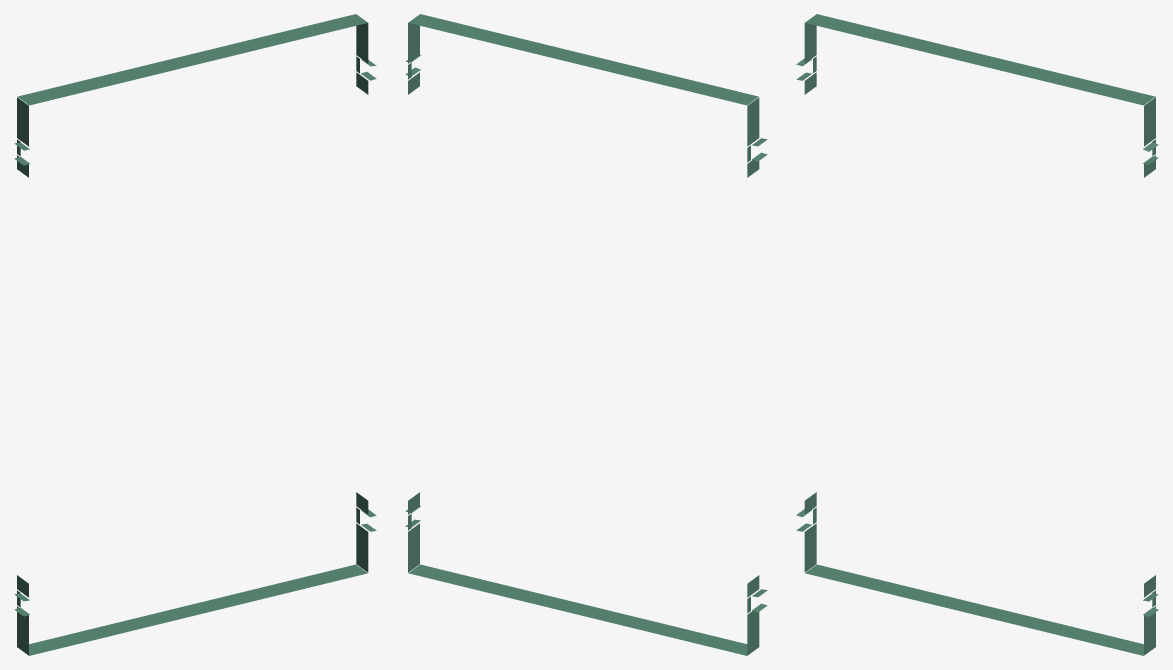
Rendered from SM_000214_merge_fence01.fbx.
3 views of the same model, side by side, from view 1: azimuth 30°, elevation 25°; view 2: azimuth 150°, elevation 25°; view 3: azimuth 330°, elevation 25° (orthographic).
Parts seen in each view (by area): view 1: SM_000214.001; view 2: SM_000214.001; view 3: SM_000214.001.
Part boxes in pixels (left/top/right/bottom): SM_000214.001: left=14, top=14, right=376, bottom=655; SM_000214.001: left=405, top=14, right=767, bottom=655; SM_000214.001: left=796, top=14, right=1158, bottom=655.
Size of the model in its own units: 53.96 by 80.36 by 4.79.
